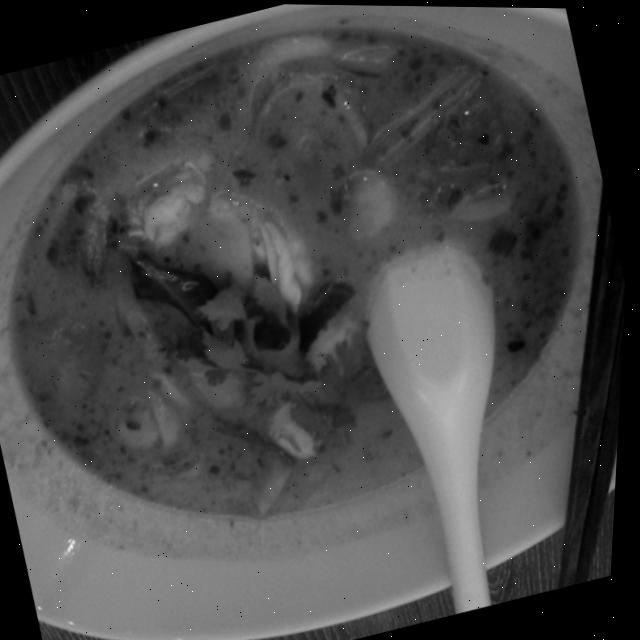汤锅炖物: (24, 48, 576, 541)
